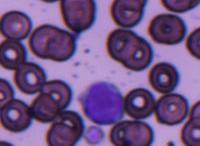L: (82, 80, 124, 125)
